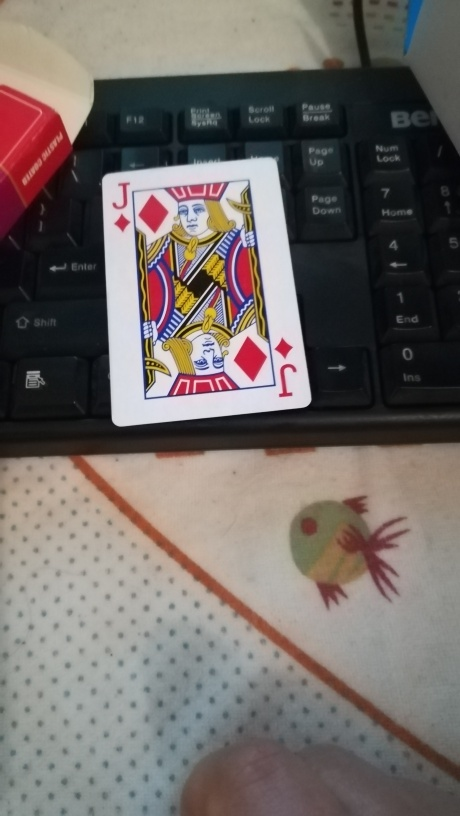fk j: (103, 155, 315, 426)
